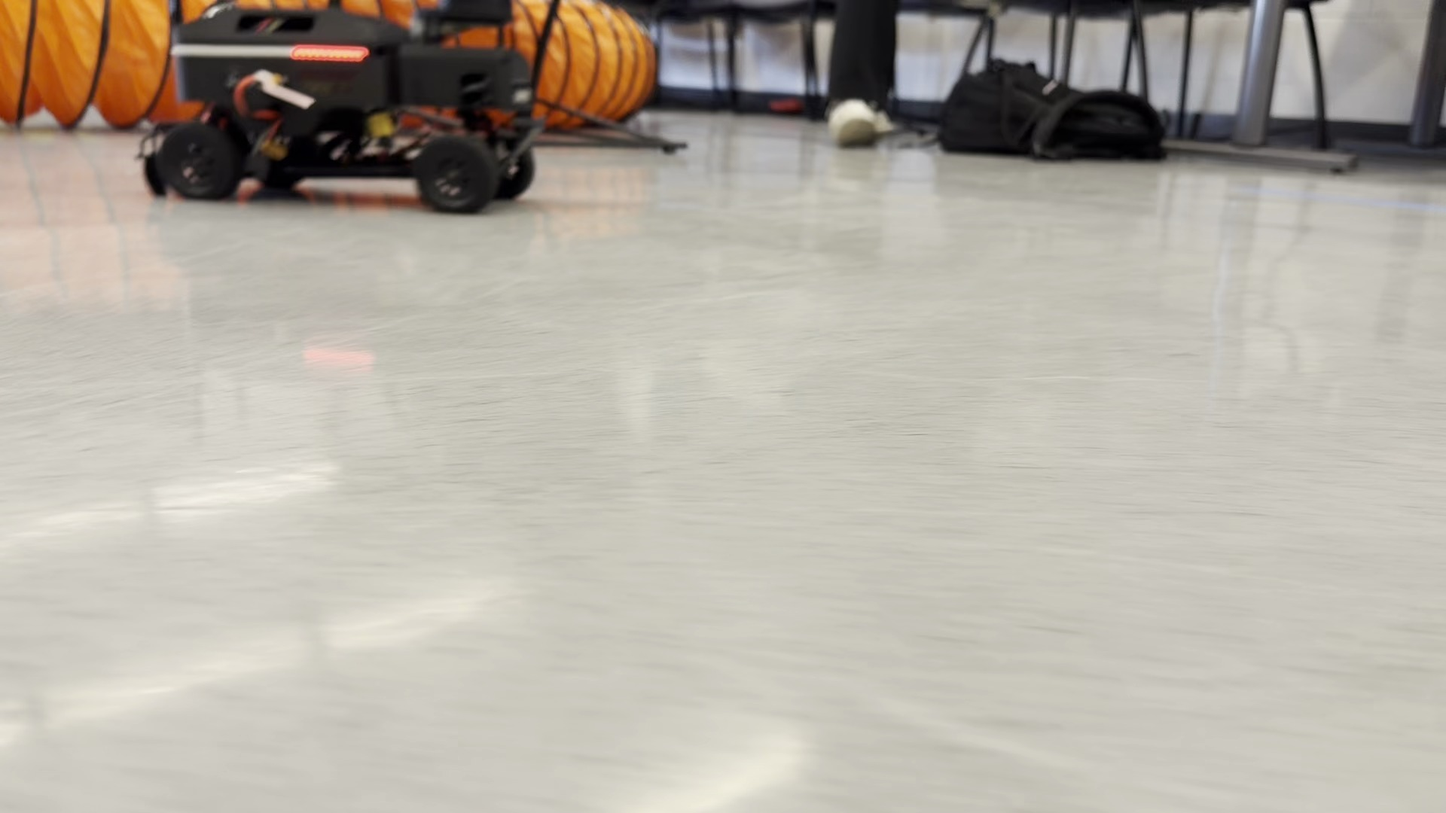racecar: (142, 0, 546, 211)
